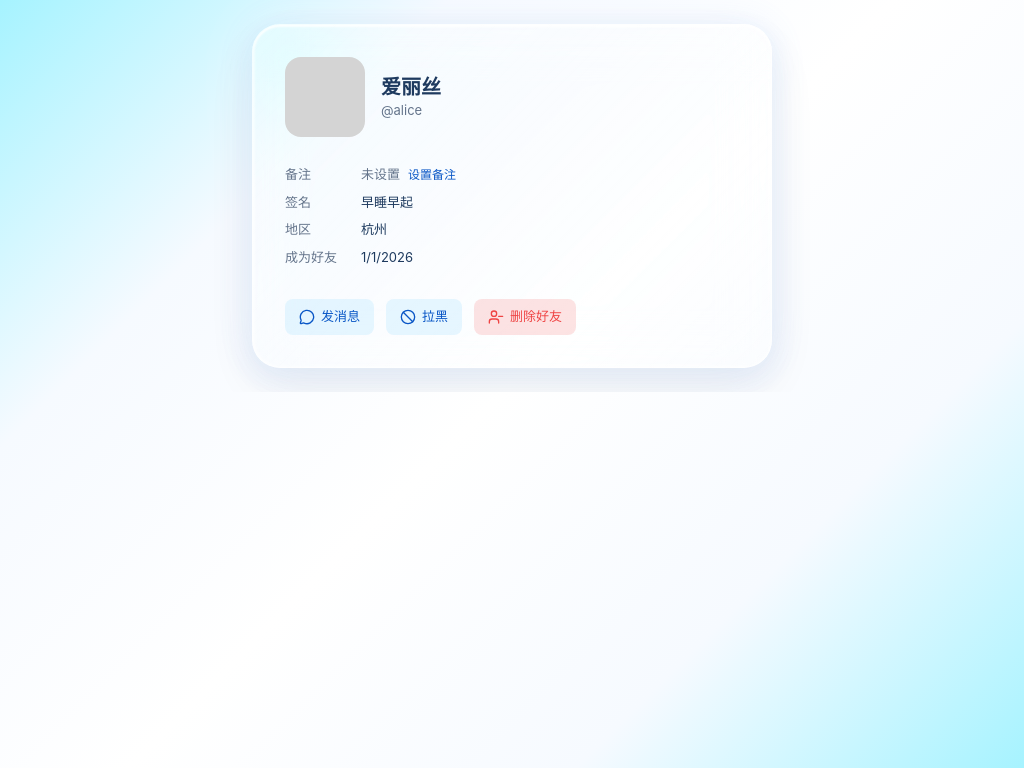
Test: ProfileView › 没有备注时按钮叫「设置备注」；保存失败原地提示、输入框保留方便重试
Expected: the text "早睡早起" is shown, [361,192,413,212]
Click the button "设置备注". click: (432, 175)
box: [408,166,456,184]
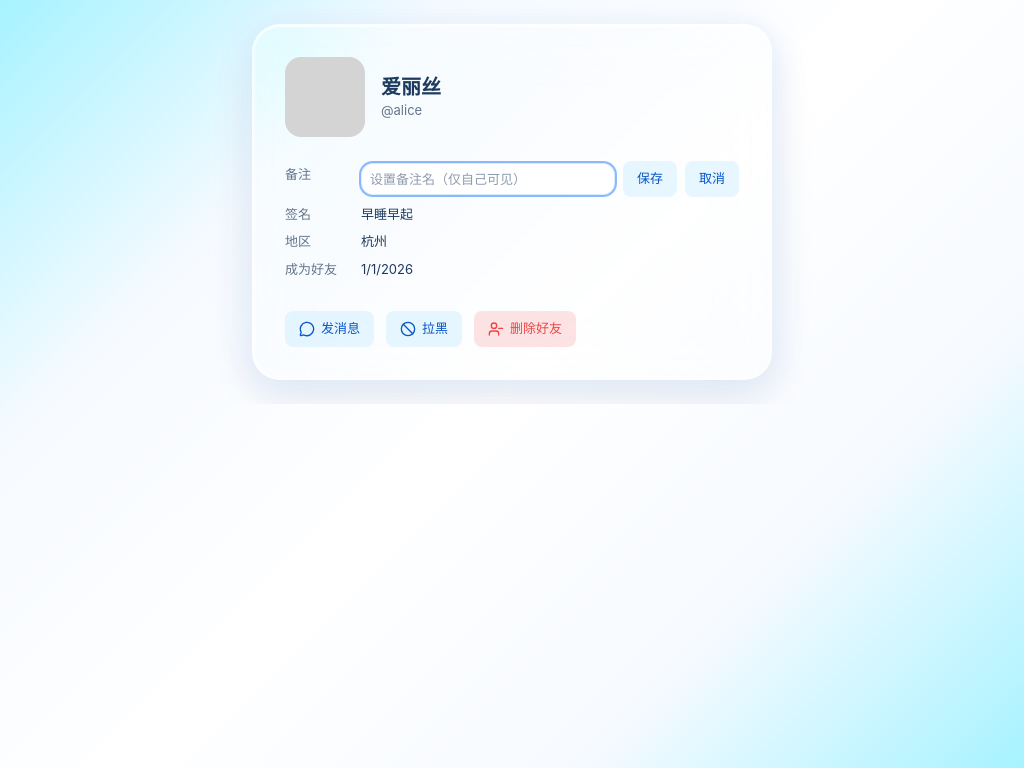
Type "小爱" into the field labelled "备注". click: (488, 179)
box: [361,163,615,195]
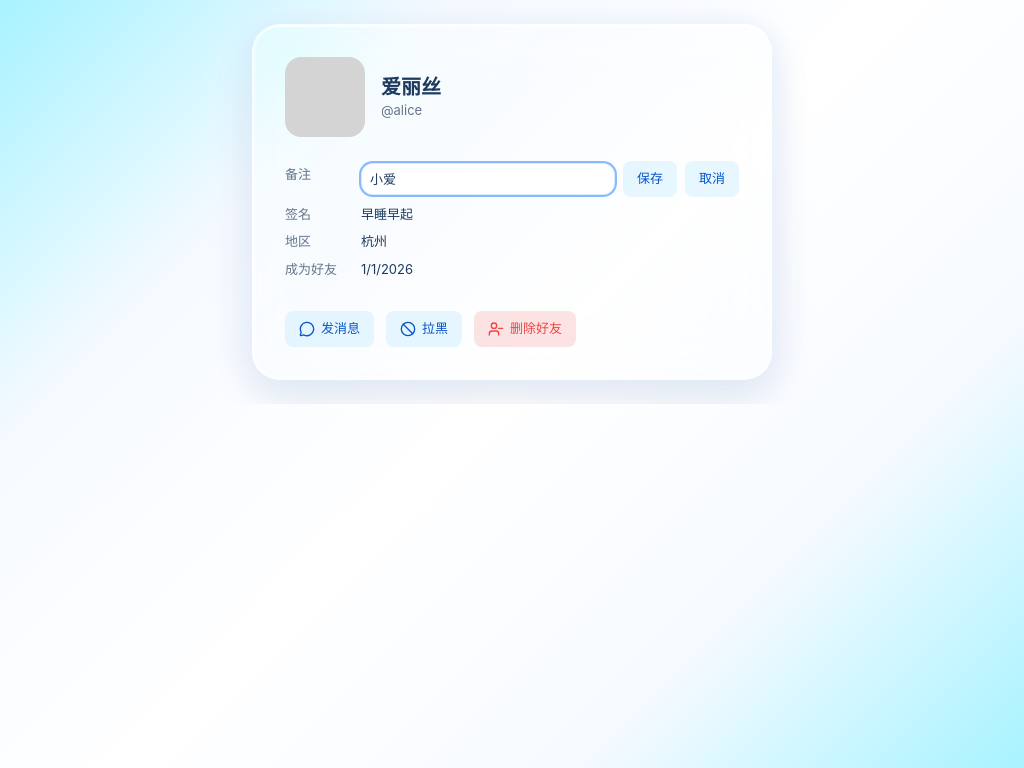
Click the button "保存". click: (650, 179)
box: [623,161,677,196]
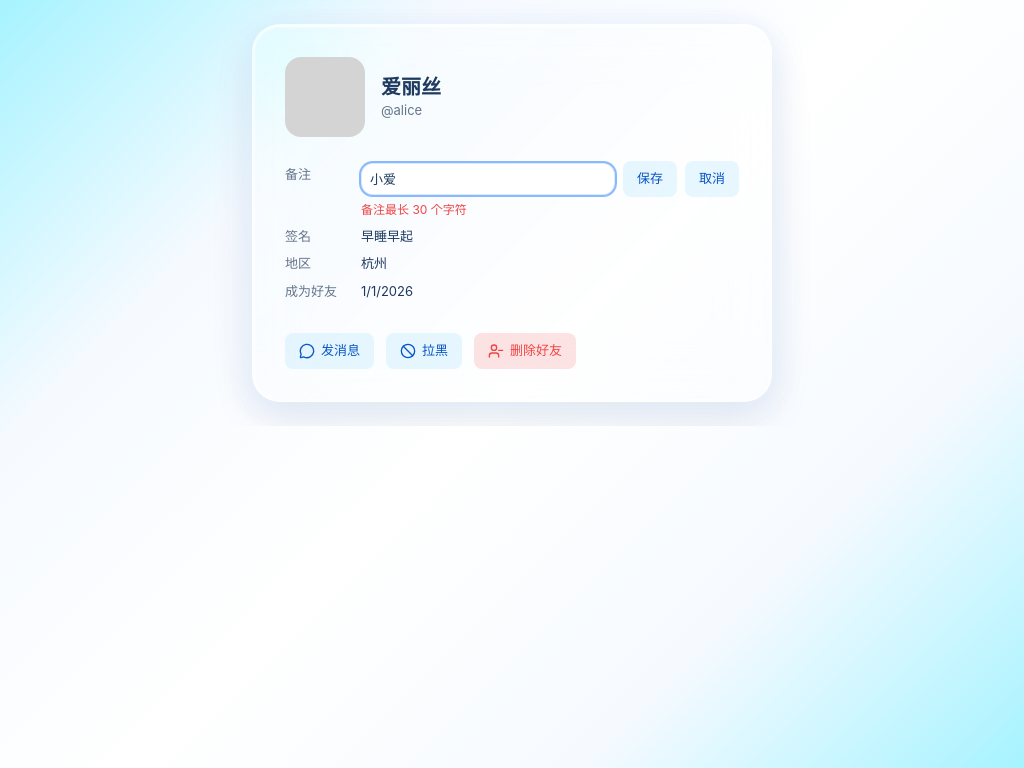
Expected: the message reads "备注最长 30 个字符", [361,202,467,216]
